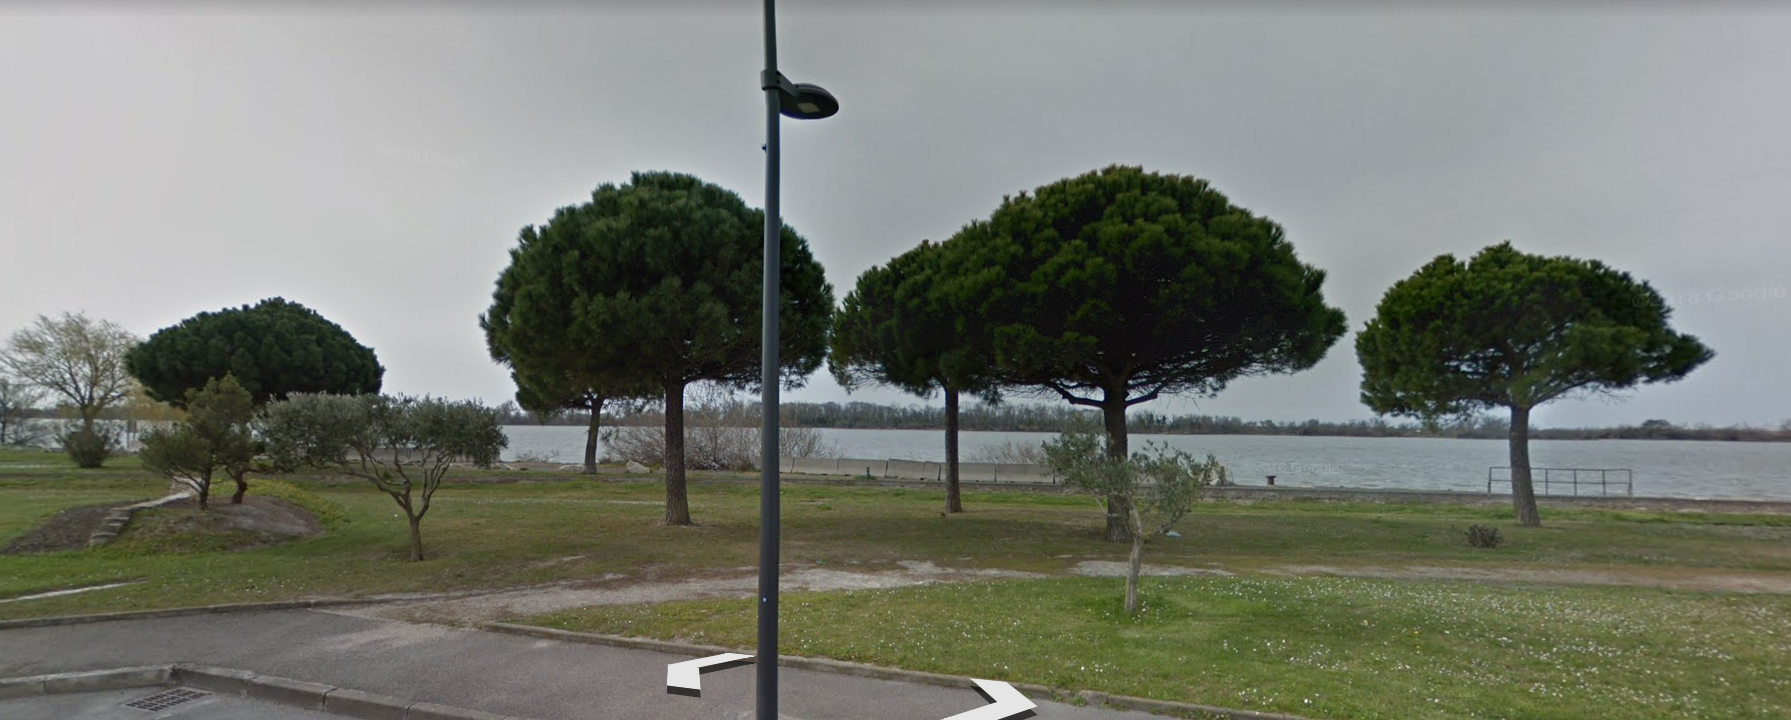Tree: (858, 155, 1355, 565), (488, 153, 837, 519), (1372, 227, 1727, 557), (125, 297, 397, 503)
